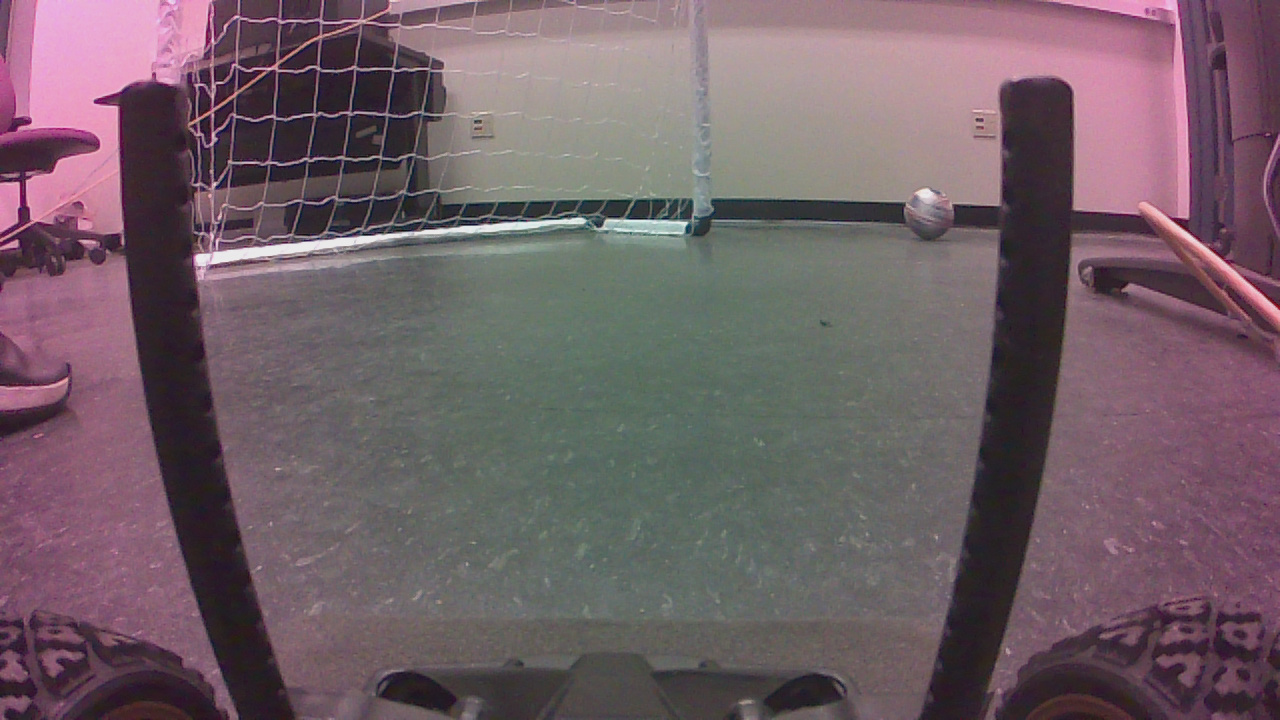ball: (908, 190, 961, 247)
goal: (161, 4, 723, 281)
